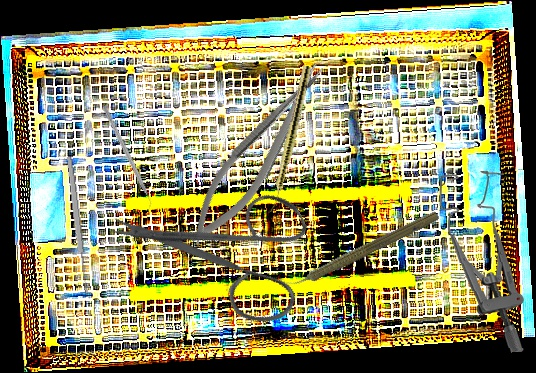Chopper: (96, 104, 156, 213)
Handpiece: (278, 204, 441, 298), (266, 64, 313, 217)
Iris Scissors: (105, 142, 339, 370)
Needle Holder: (173, 55, 343, 255)
Speculum: (438, 170, 526, 355)
Surgical Spoon: (65, 156, 90, 294)
